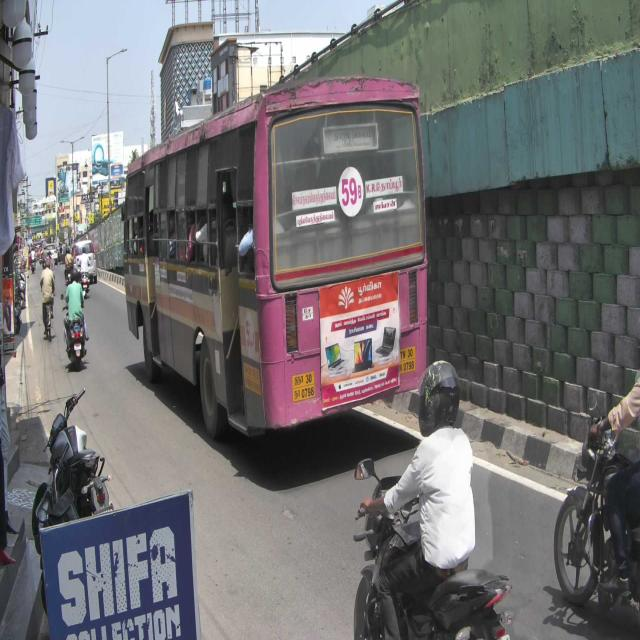single_rider: (351, 356, 512, 640)
